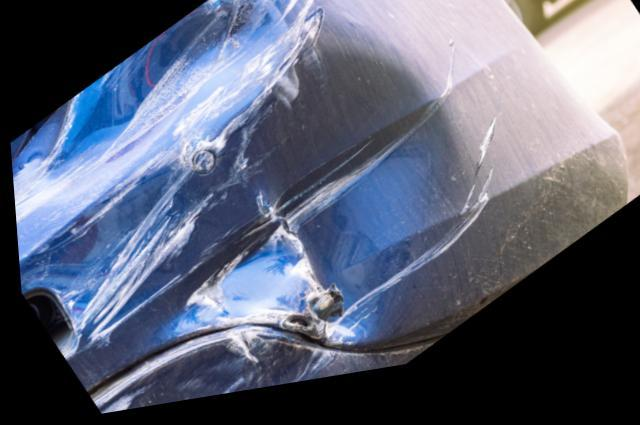dent: (11, 0, 459, 350)
scratch: (398, 51, 505, 297), (87, 338, 320, 416), (250, 0, 327, 72)
